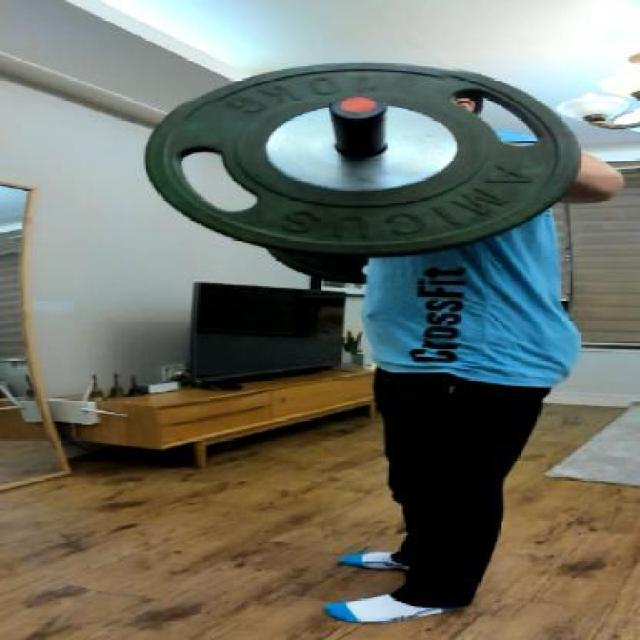barbell: (139, 51, 593, 263)
